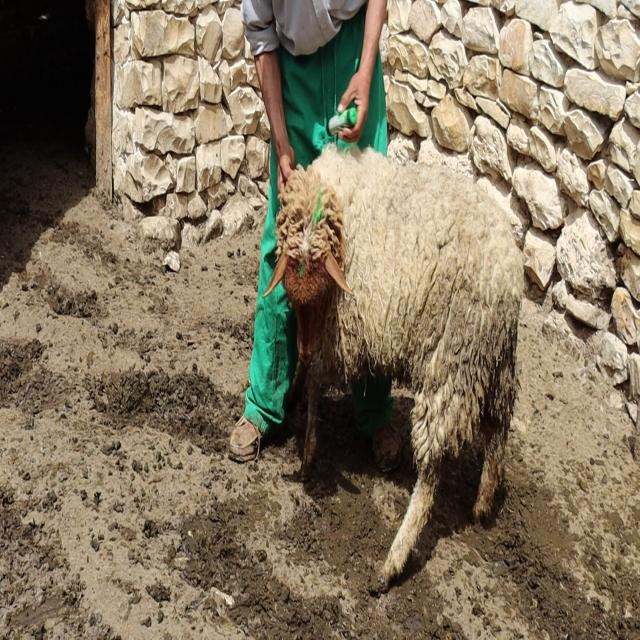Score_2: (263, 146, 524, 580)
